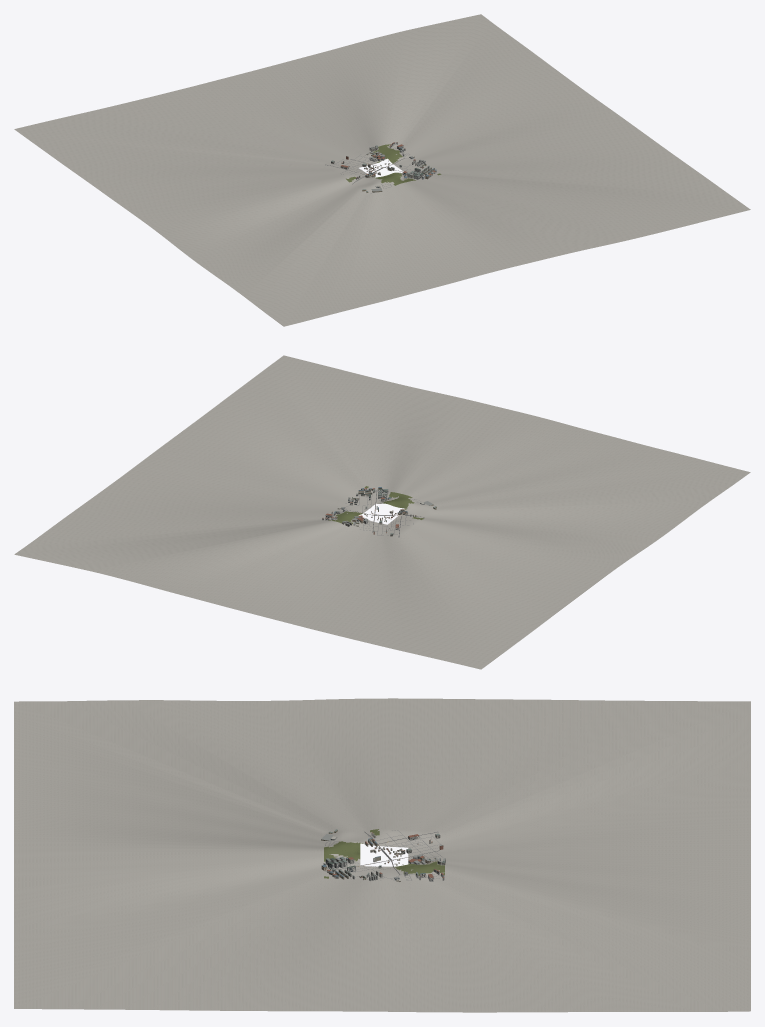
3 views of the same model, one above another, from view 1: azimuth 30°, elevation 25°; view 2: azimuth 150°, elevation 25°; view 3: azimuth 270°, elevation 25° (orthographic). The views are drawn at different scales.
Parts seen in each view (by area): view 1: ctx-ground, ctx-buildings; view 2: ctx-ground, ctx-buildings; view 3: ctx-ground, ctx-buildings, ctx-streets.
Boxes of the visible parts, x1=… form: ctx-ground: x1=14, y1=14, x2=750, y2=326; ctx-buildings: x1=331, y1=142, x2=436, y2=192; ctx-ground: x1=14, y1=355, x2=750, y2=669; ctx-buildings: x1=322, y1=487, x2=436, y2=536; ctx-ground: x1=14, y1=698, x2=750, y2=1012; ctx-buildings: x1=321, y1=829, x2=445, y2=881; ctx-streets: x1=325, y1=830, x2=443, y2=880.
Bounding box in the file's own units: 7600 × 112 × 7600.
Materials: 17 (15 with a texture image).
